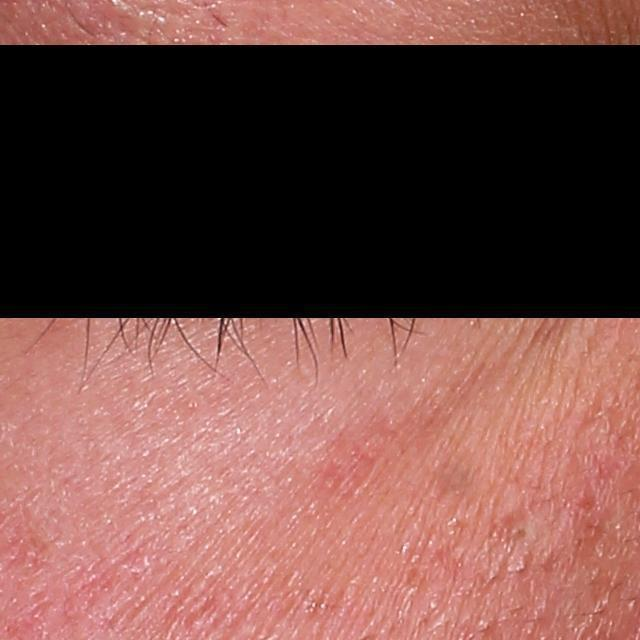comedo: (514, 520, 530, 543)
